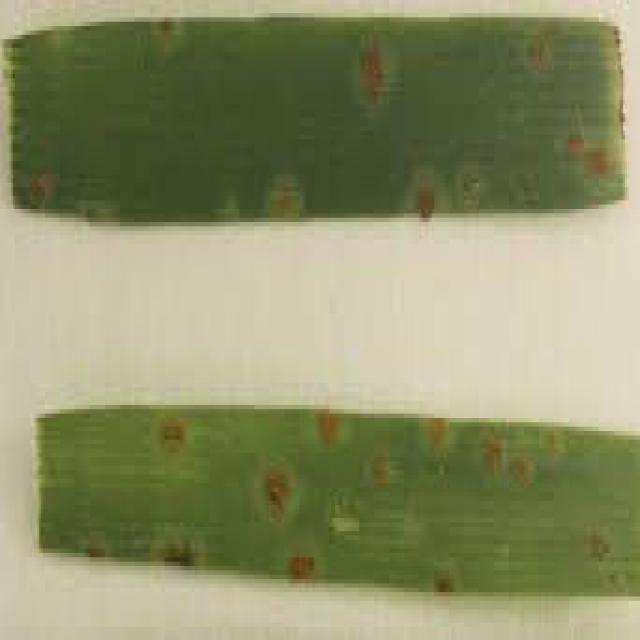wheat-stemrust: (355, 44, 389, 116), (562, 141, 618, 184), (259, 466, 292, 524), (156, 541, 202, 570), (261, 187, 303, 218), (523, 31, 552, 75), (510, 451, 535, 492), (424, 414, 454, 448), (480, 436, 505, 475), (159, 416, 186, 451), (156, 18, 182, 52), (285, 552, 316, 580), (588, 533, 611, 570), (32, 174, 57, 206), (316, 413, 340, 446), (412, 187, 438, 215), (372, 458, 391, 492), (436, 567, 448, 589)
